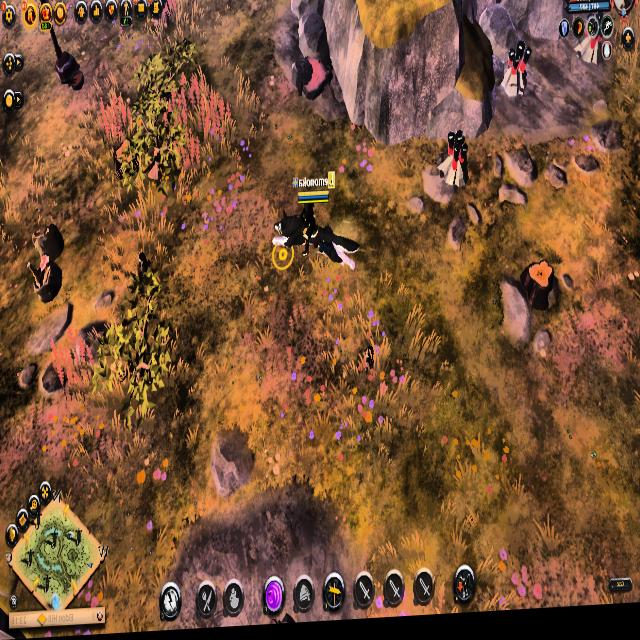ore tier 5: (436, 132, 470, 196), (500, 45, 533, 106)
